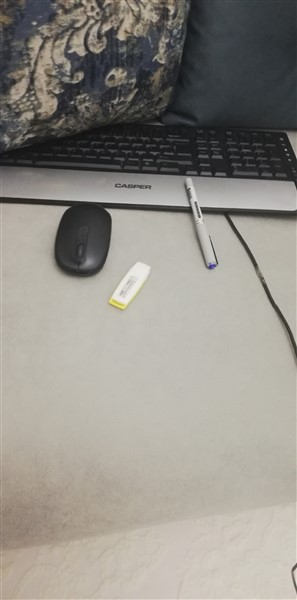flash disk: (107, 260, 158, 312)
klavye: (1, 129, 295, 211)
mouse: (53, 198, 116, 283)
pilot kalem: (180, 180, 222, 272)
